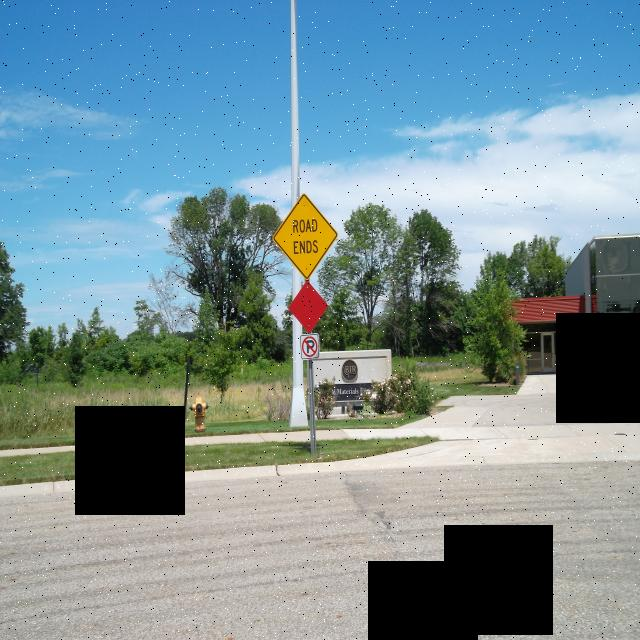regulatory: (300, 336, 320, 359)
warning: (273, 193, 337, 280)
